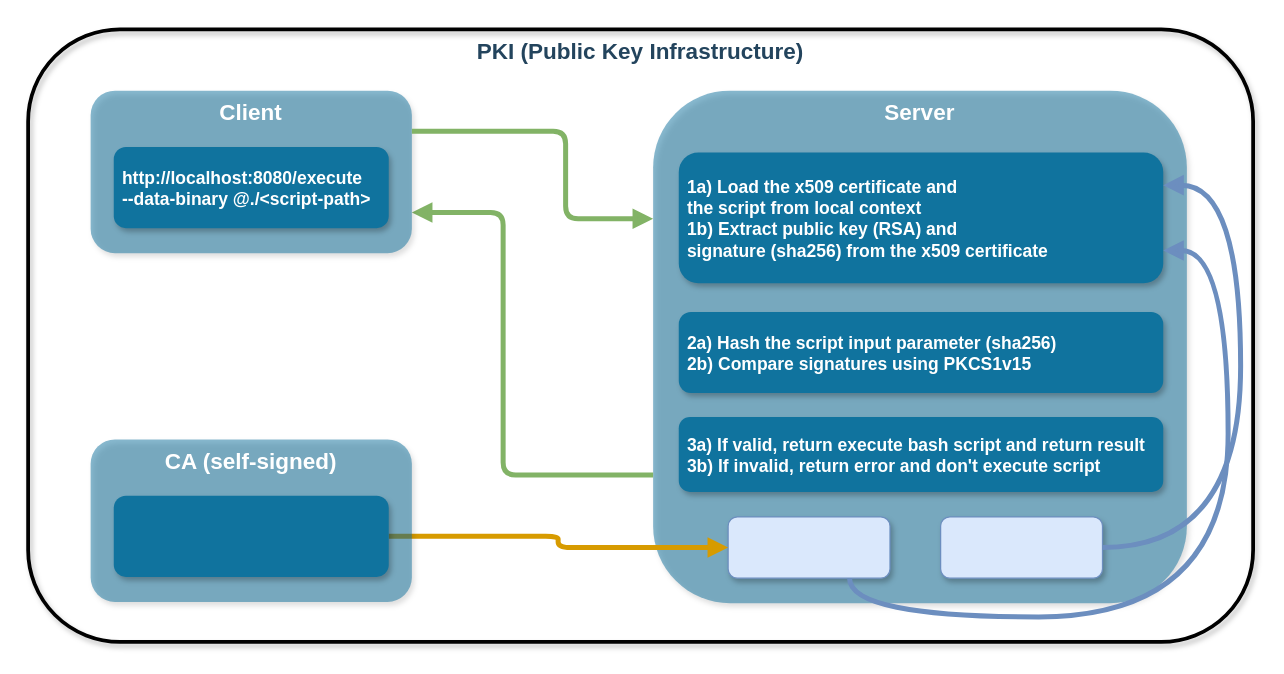
Some shapes in this 1284 by 674 pixel diagram are drawn without their labels. The shapes that lost their labels are listed below. From the top down, each one's centre as x and y in pixels, then its label:
the point at 252,537: openssl genpkey -> ca-key.pem openssl req -> ca-cert.pem
the point at 810,549: x509 certificates
the point at 1022,549: Bash scripts
